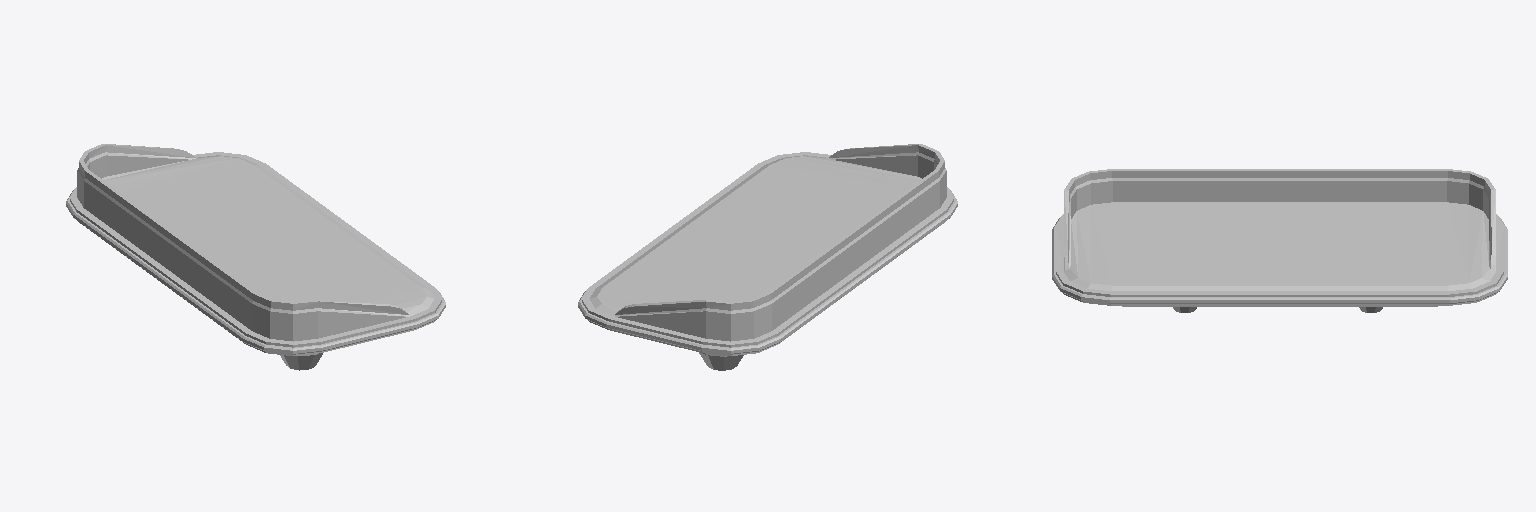
The model's file is transport.obj.
The picture shows the model from 3 angles: view 1: azimuth 30°, elevation 25°; view 2: azimuth 150°, elevation 25°; view 3: azimuth 270°, elevation 25°; orthographic projection.
Visible parts, largest first — view 1: pCube2; view 2: pCube2; view 3: pCube2.
Part boxes in pixels (x1,y1,x2,y2): pCube2: (66, 144, 445, 370); pCube2: (578, 144, 957, 370); pCube2: (1052, 169, 1507, 312).
Bounding box in the file's own units: 3.03 × 1.32 × 6.1.